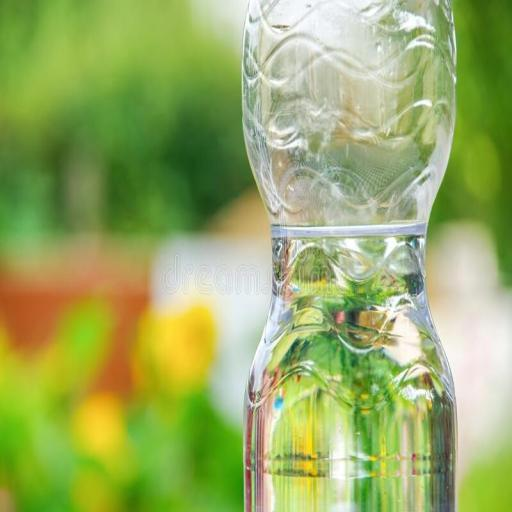bottle: (232, 0, 468, 512)
